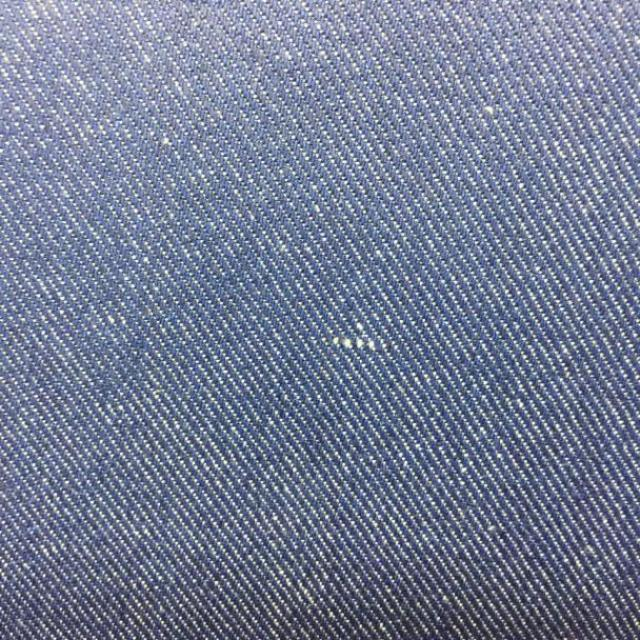Knot: (332, 337, 376, 351)
